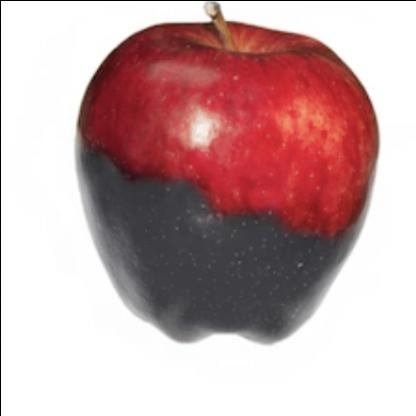Rotten Apple: (76, 21, 376, 346)
